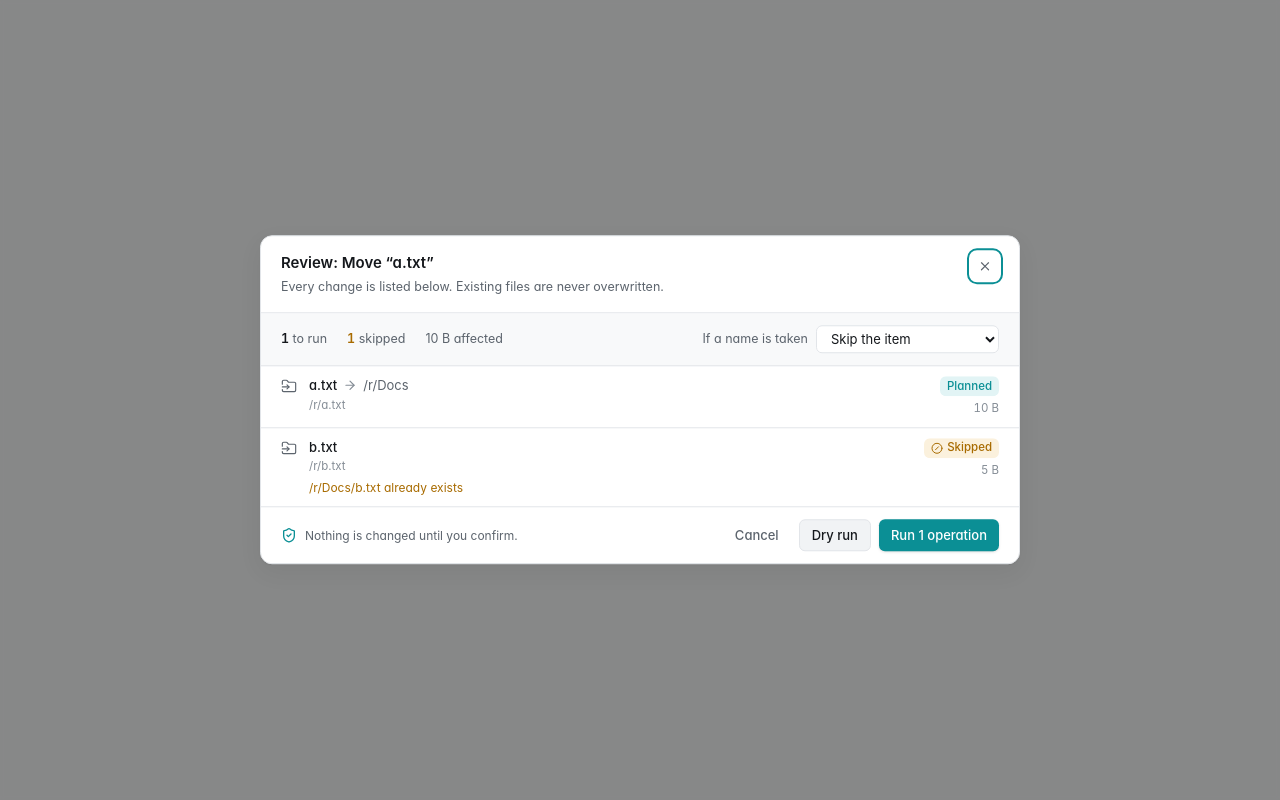
Test: OperationPreview › dry run checks without executing
Expected: the text "a.txt" is shown, [309,376,337,395]
Click the button "Dry run": (835, 536) [799,520,871,552]
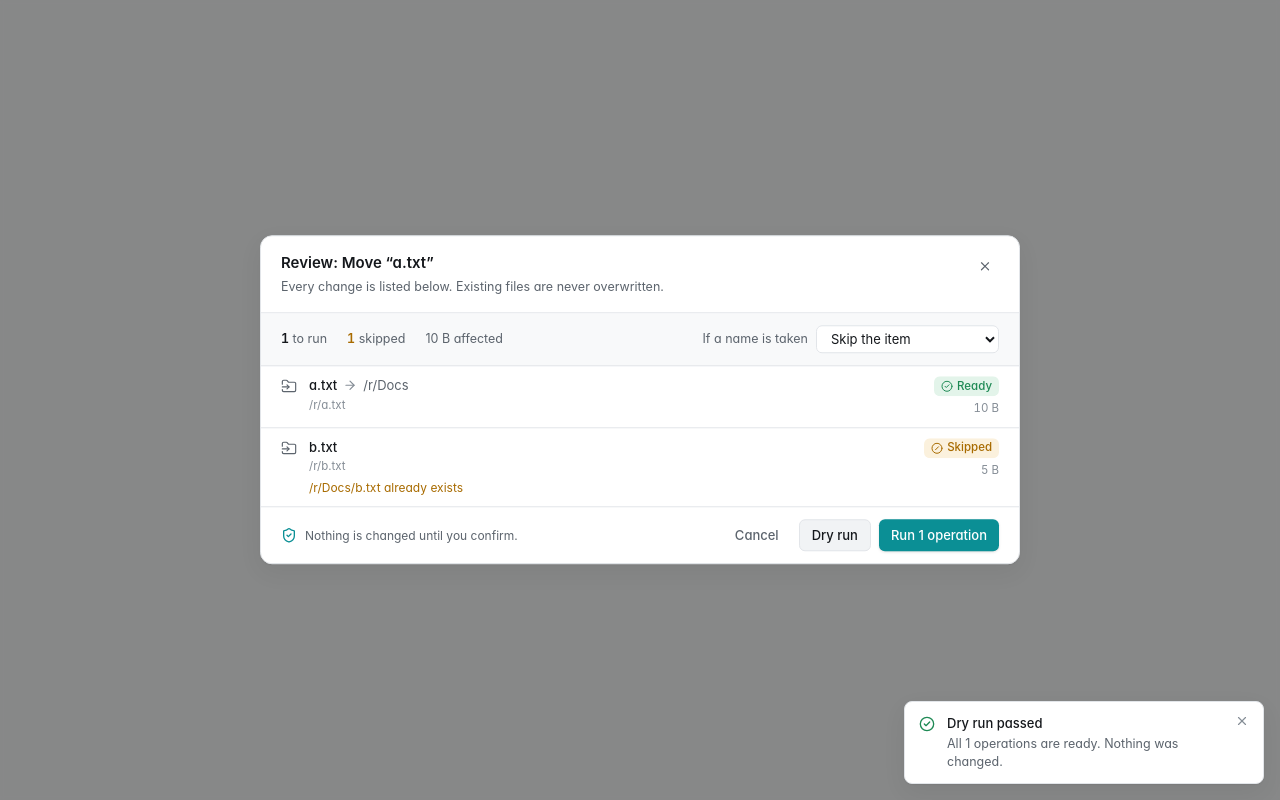
Expected: the text "Ready" is shown, [934,376,999,396]
